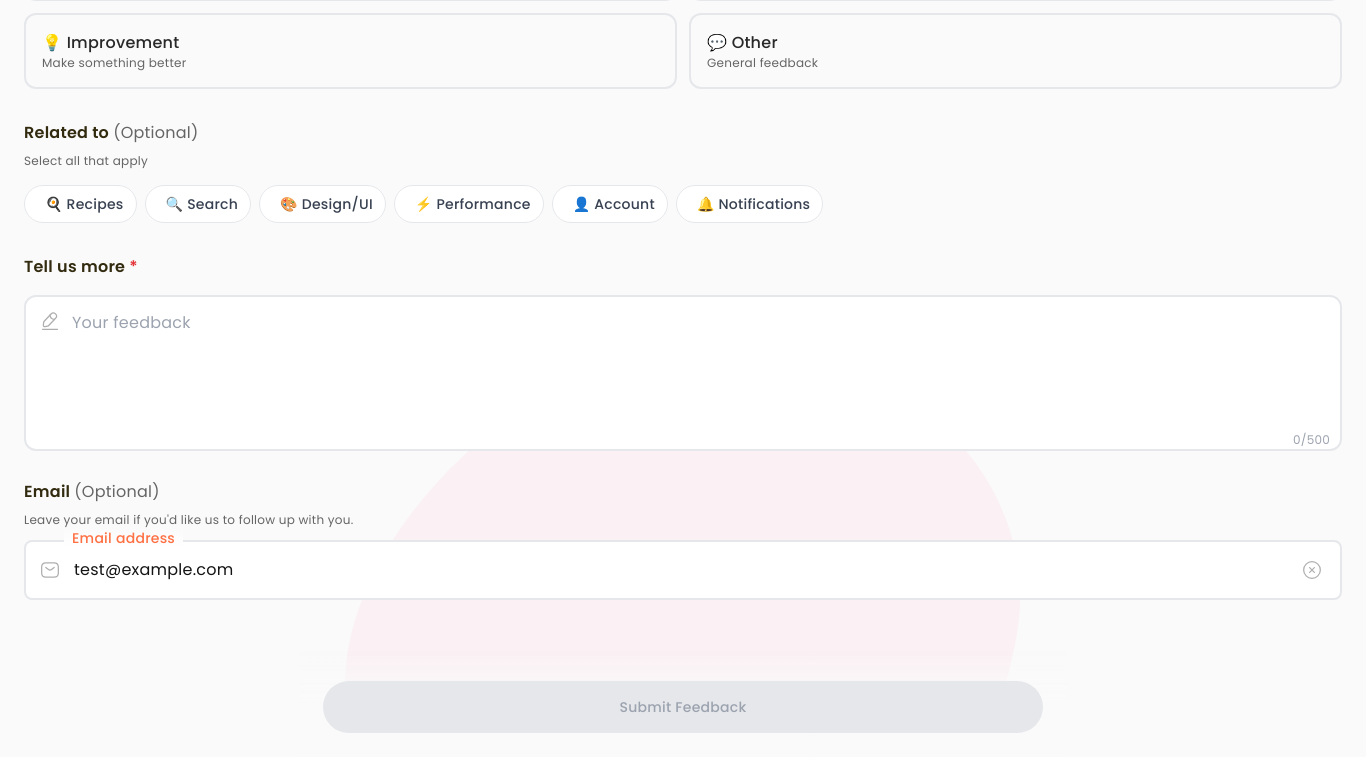
it: FeedbackPage › Form Validation › submit button is enabled when feedback is long enough
(page scrolled)
Type "This is a long enough feedback message" into the text box with placeholder "Your feedback".
click(683, 373); type("This is a long enough feedback message")  # box [24, 295, 1342, 451]
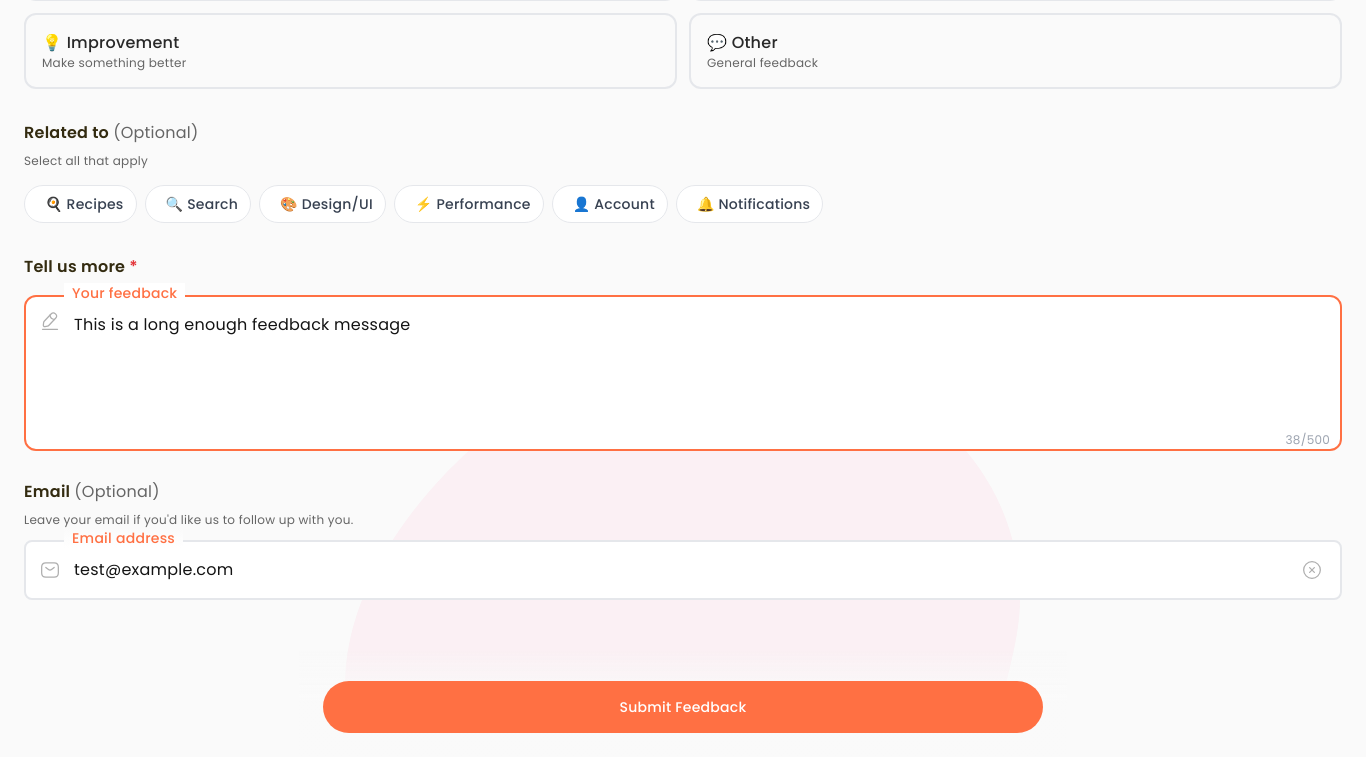
expect the button "Submit Feedback" is enabled: met, box [323, 681, 1043, 733]
